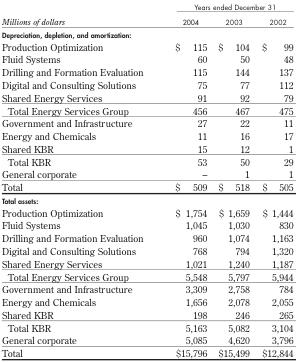table: (0, 1, 292, 358)
table column: (0, 1, 158, 358), (158, 1, 211, 358), (211, 1, 255, 358), (255, 1, 292, 358)
table column header: (0, 1, 292, 27)
table projected row header: (0, 27, 292, 39), (0, 194, 292, 205)
table row: (0, 13, 292, 27), (0, 180, 292, 194), (0, 39, 292, 52), (0, 52, 292, 65), (0, 77, 292, 90), (0, 90, 292, 103), (0, 103, 292, 116), (0, 116, 292, 129), (0, 141, 292, 154), (0, 154, 292, 167), (0, 167, 292, 180), (0, 205, 292, 218), (0, 218, 292, 231), (0, 231, 292, 244), (0, 256, 292, 269), (0, 269, 292, 282), (0, 282, 292, 295), (0, 307, 292, 320), (0, 320, 292, 333), (0, 333, 292, 346), (0, 1, 292, 13), (0, 27, 292, 39), (0, 65, 292, 77), (0, 129, 292, 141), (0, 244, 292, 256), (0, 295, 292, 307), (0, 346, 292, 358), (0, 194, 292, 205)
table spanning cell: (0, 1, 158, 27), (158, 1, 292, 13)
